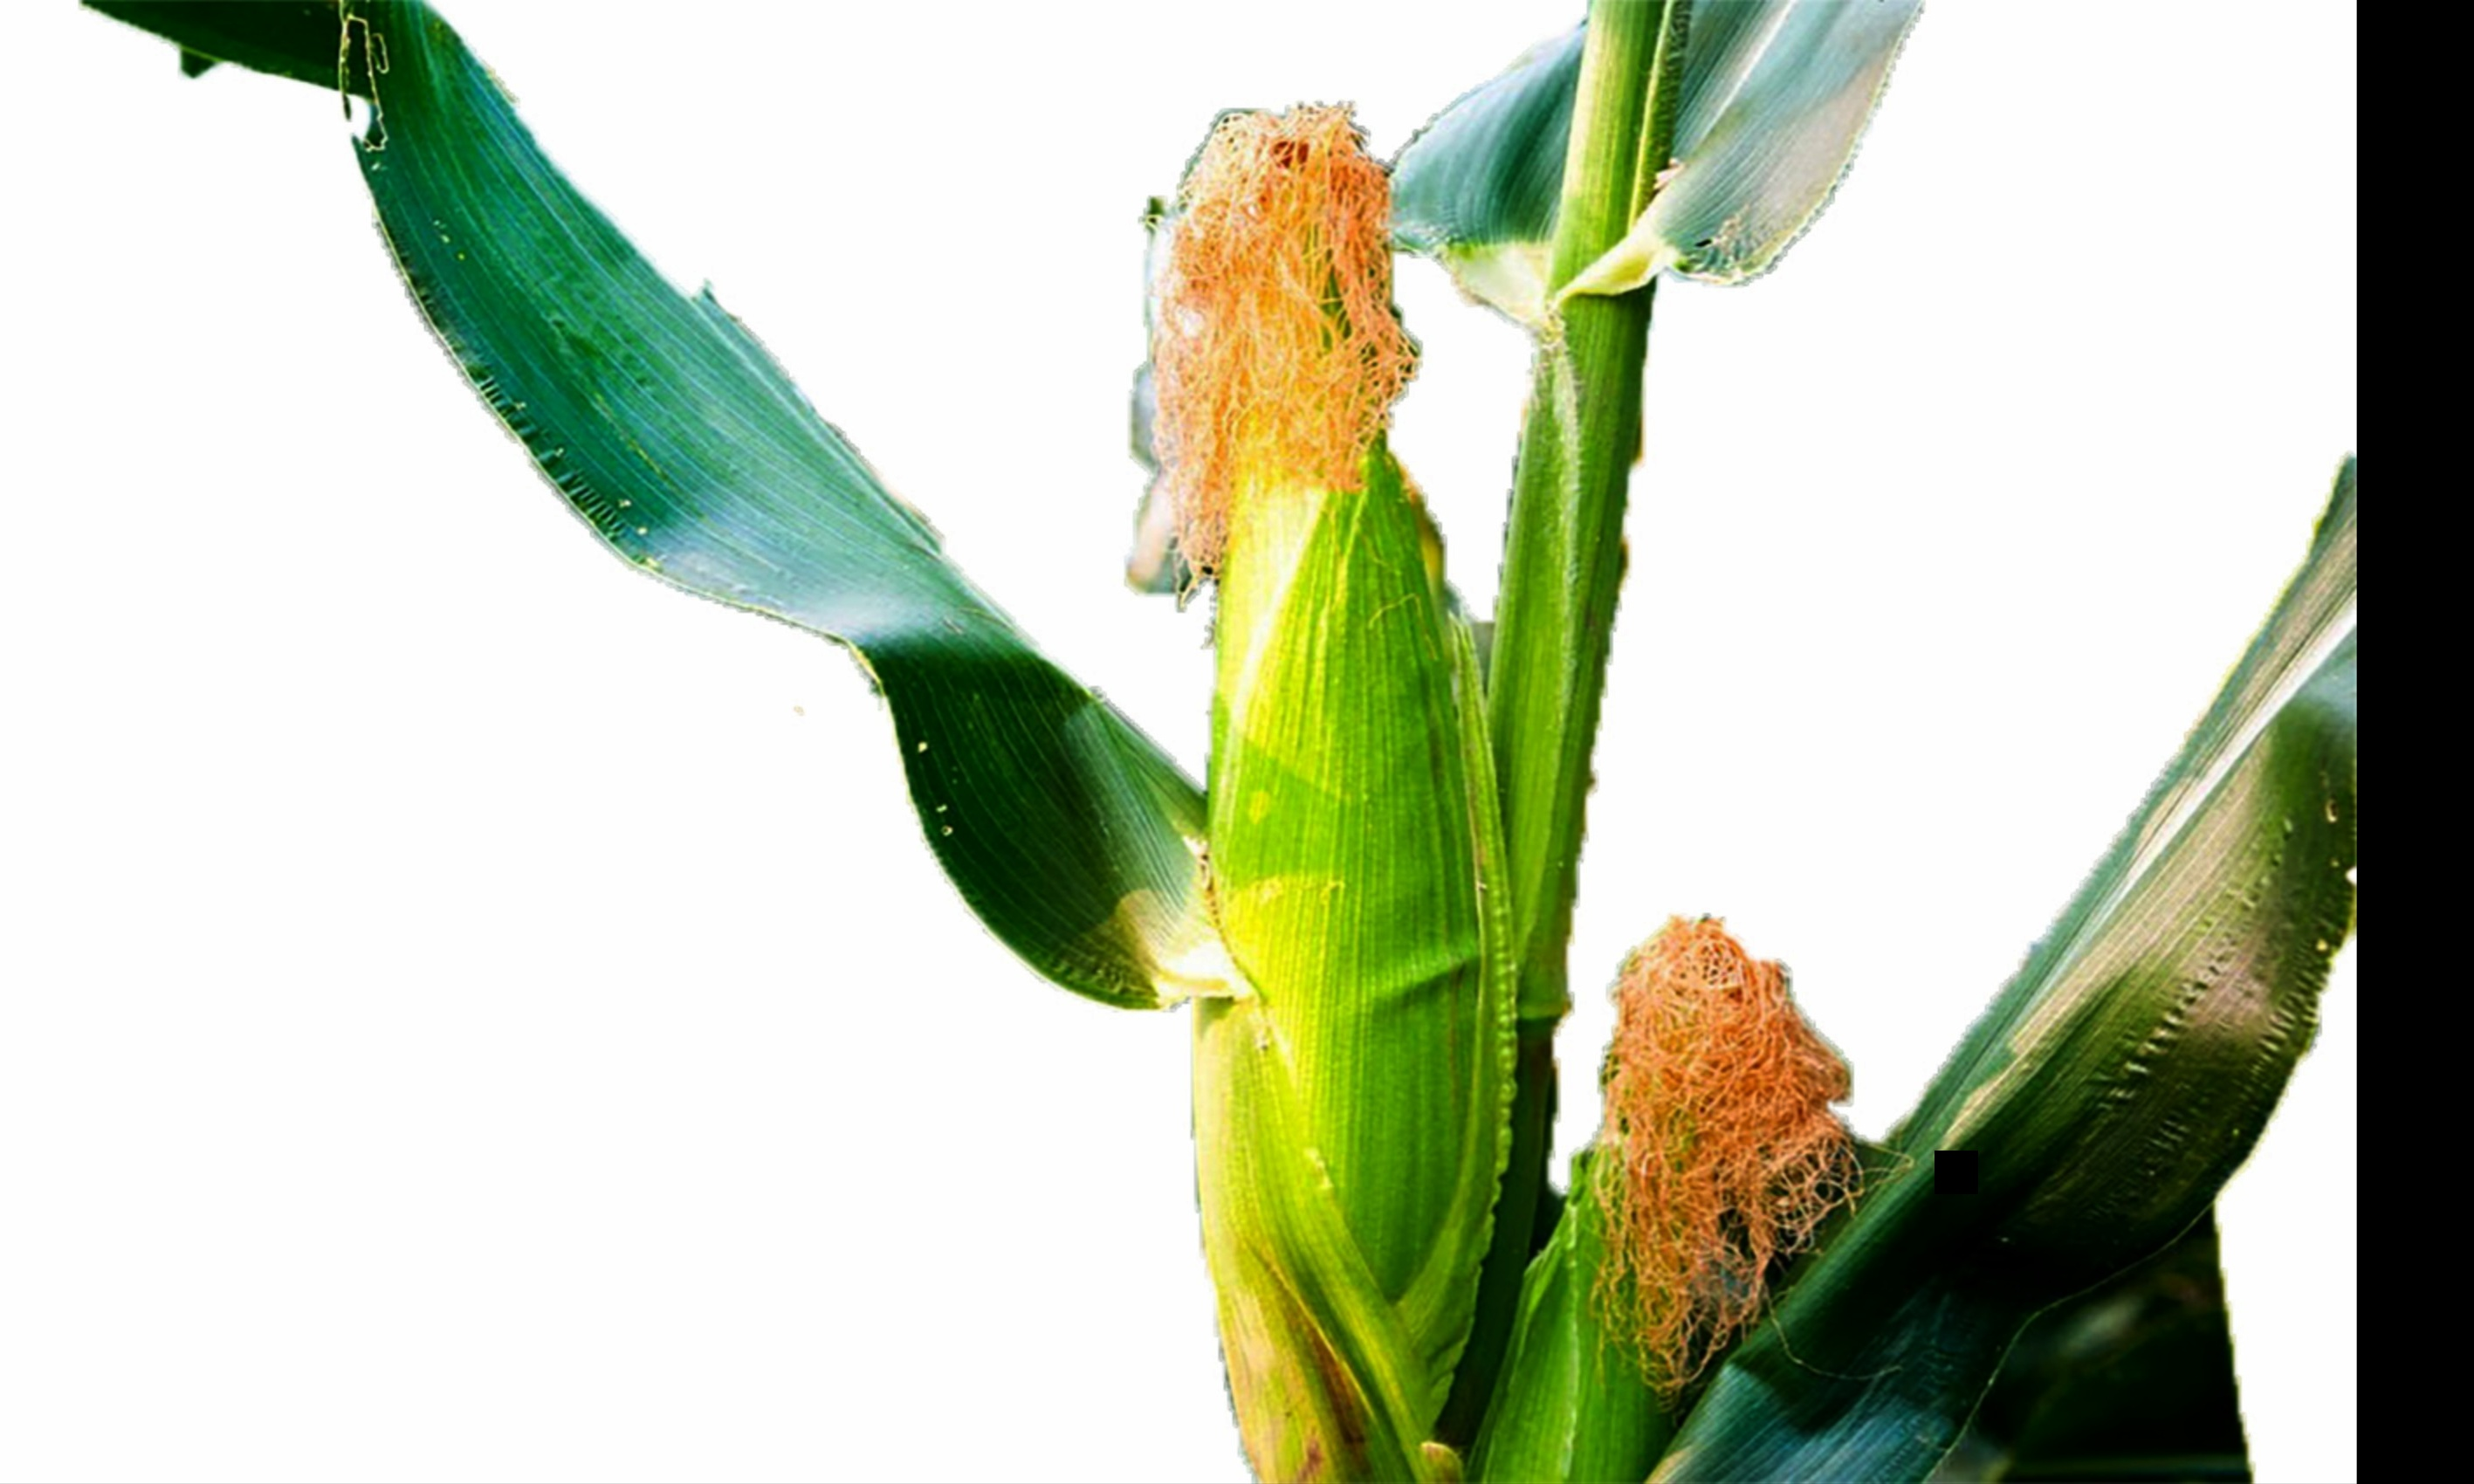corn_plant: (1035, 72, 1505, 1449)
